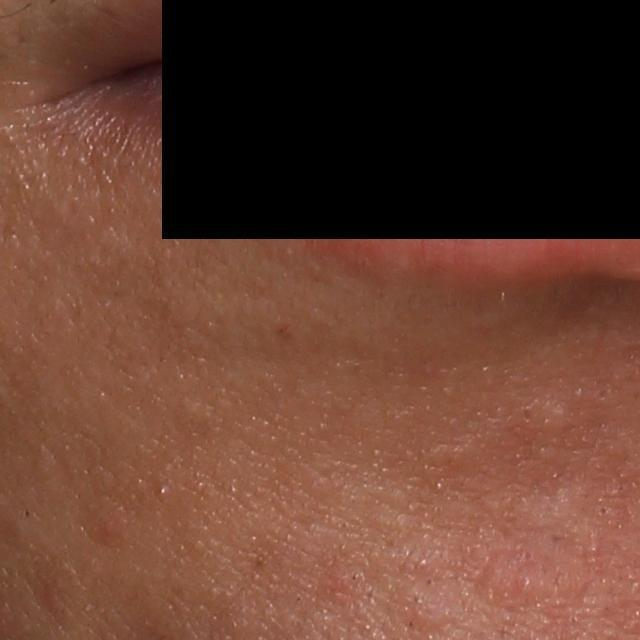hypertrophic_scar: (507, 485, 608, 558), (469, 551, 536, 608), (525, 393, 575, 439)
